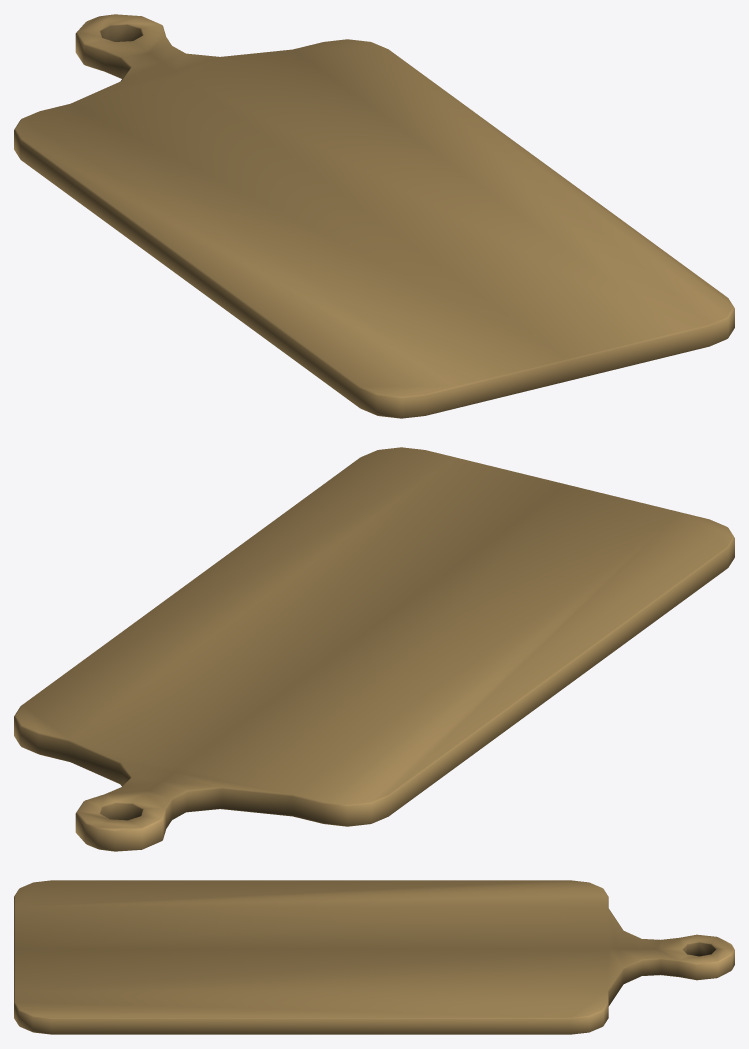
File: CutBoard-03.fbx
The picture shows the model from 3 angles, top to bottom: view 1: azimuth 30°, elevation 25°; view 2: azimuth 150°, elevation 25°; view 3: azimuth 270°, elevation 25°; orthographic projection. The views are drawn at different scales.
Visible parts, largest first — view 1: CutBoard-03; view 2: CutBoard-03; view 3: CutBoard-03.
Part boxes in pixels (left/top/right/bottom): CutBoard-03: left=14, top=14, right=734, bottom=418; CutBoard-03: left=14, top=447, right=734, bottom=851; CutBoard-03: left=14, top=880, right=734, bottom=1034.
Bounding box in the file's own units: 1124 × 64.72 × 2476.
